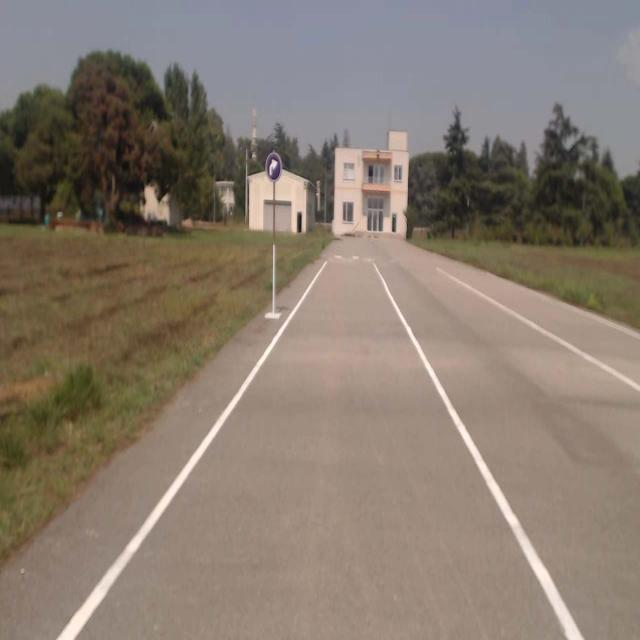sag: (266, 152, 280, 180)
